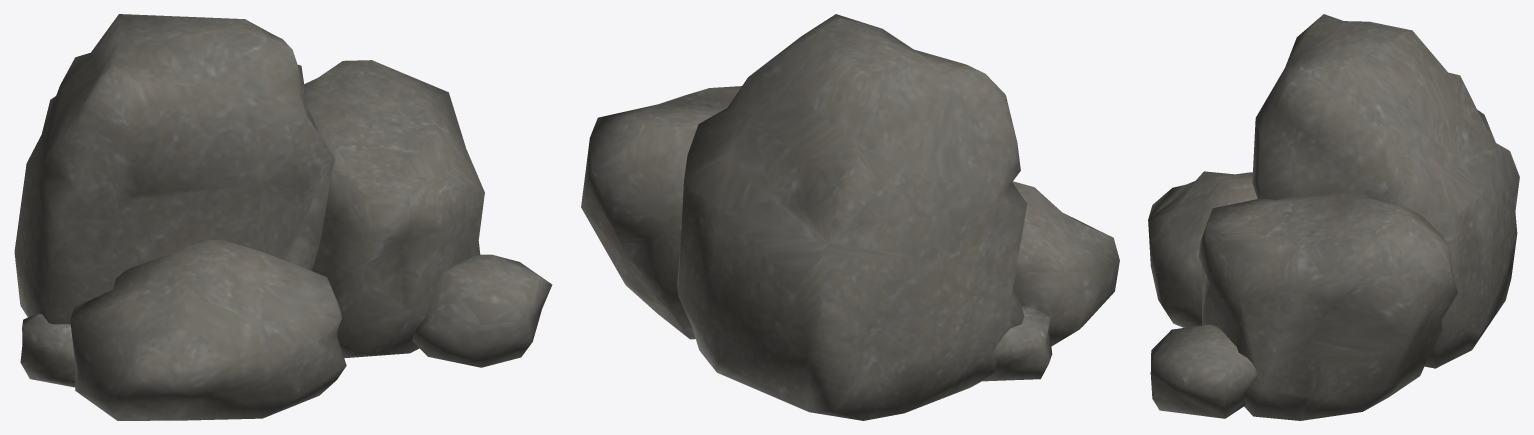
Rendered from fractured_boulder_cluster_LOD2.fbx.
3 views of the same model, side by side, from view 1: azimuth 30°, elevation 25°; view 2: azimuth 150°, elevation 25°; view 3: azimuth 270°, elevation 25° (orthographic). The views are drawn at different scales.
Parts seen in each view (by area): view 1: fractured_boulder_cluster_LOD2; view 2: fractured_boulder_cluster_LOD2; view 3: fractured_boulder_cluster_LOD2.
Boxes of the visible parts, left/top/right/bottom form: fractured_boulder_cluster_LOD2: left=14, top=14, right=552, bottom=420; fractured_boulder_cluster_LOD2: left=581, top=14, right=1119, bottom=420; fractured_boulder_cluster_LOD2: left=1148, top=14, right=1519, bottom=420.
Size of the model in its own units: 481 by 316 by 392.
